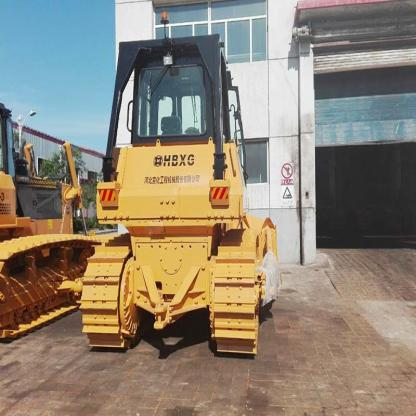bull_dozer/loader/grader: (70, 16, 294, 368)
